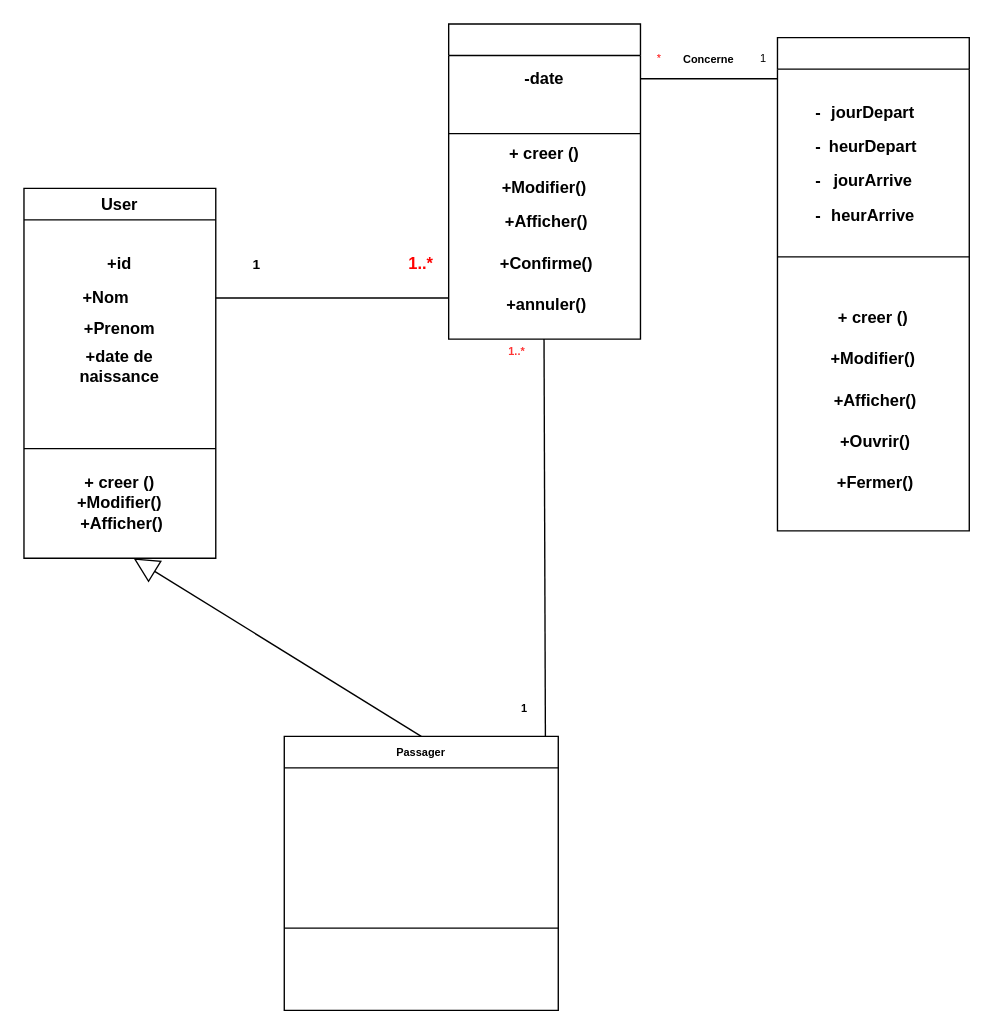
Some shapes in this 995 by 1034 pixel diagram are drawn without their labels. The shapes that lost their labels are listed below. From the top down, each one's box as (x1, y1, x2, y2) in pixels, then its label:
(447, 23, 640, 339): Reservation
(776, 36, 969, 531): vol
